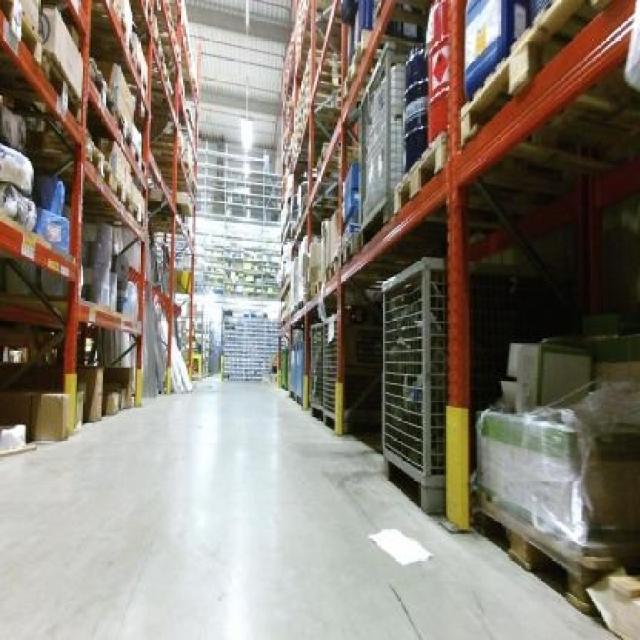floor: (0, 380, 614, 637), (365, 525, 432, 565)
pallets: (380, 255, 443, 511)
